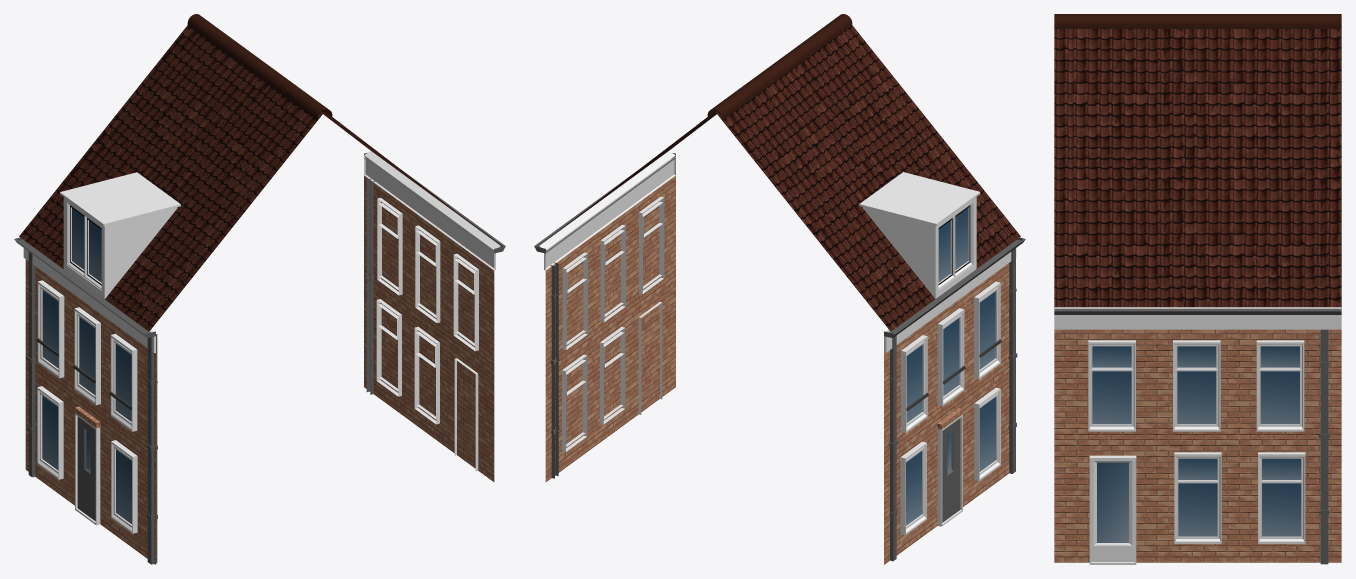
Rendered from It_Uleboerd_7.fbx.
The picture shows the model from 3 angles, left to right: view 1: azimuth 30°, elevation 25°; view 2: azimuth 150°, elevation 25°; view 3: azimuth 270°, elevation 25°; orthographic projection. The views are drawn at different scales.
Visible parts, largest first — view 1: It_Uleboerd_7; view 2: It_Uleboerd_7; view 3: It_Uleboerd_7.
Part boxes in pixels (left/top/right/bottom): It_Uleboerd_7: left=14, top=14, right=505, bottom=564; It_Uleboerd_7: left=534, top=14, right=1025, bottom=564; It_Uleboerd_7: left=1054, top=14, right=1341, bottom=564.
Size of the model in its own units: 929 by 1018 by 580.
